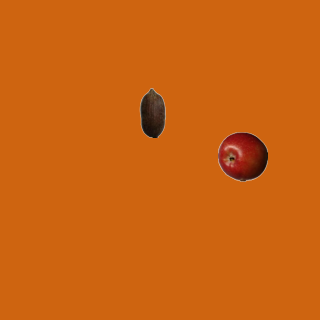Apple Braeburn: (217, 131, 267, 181)
Nut Pecan: (127, 87, 177, 137)
